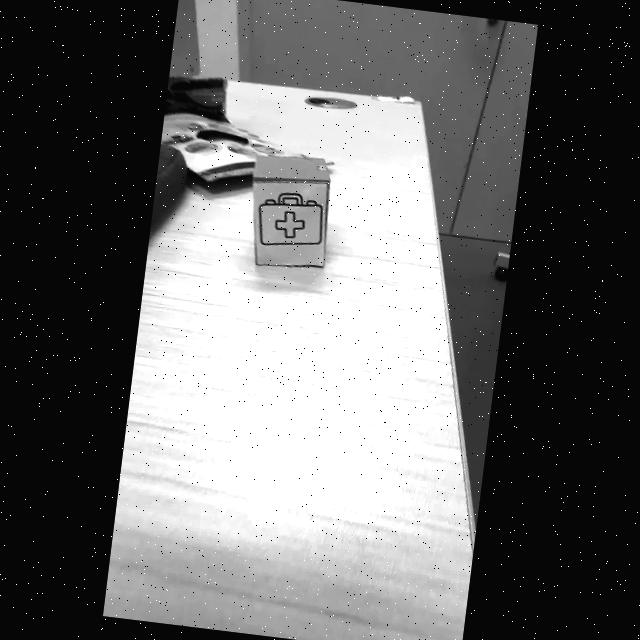Medkit: (258, 193, 323, 249)
